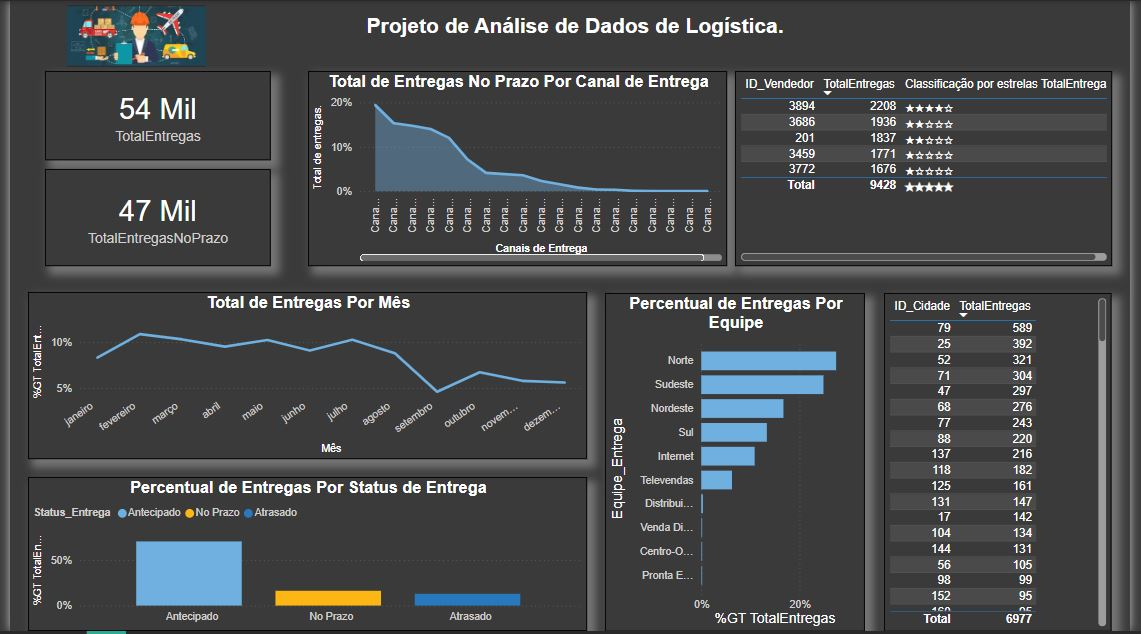

This screenshot's page, from the dashboard's own definition file:
{"tool":"powerbi","page":{"name":"Dashboard","canvas":[1280,720],"ordinal":0},"visuals":[{"type":"areaChart","title":"Total de Entregas No Prazo Por Canal de Entrega","fields":{"Category":["Logistica.Canal_Entrega"],"Y":["Medidas.TotalEntregas"]},"box":[340.3,79.9,479.2,223.4],"z":0},{"type":"barChart","title":"Percentual de Entregas Por Equipe","fields":{"Category":["Logistica.Equipe_Entrega"],"Y":["Medidas.TotalEntregas"]},"box":[679.5,333.4,297.5,386.6],"z":1000},{"type":"lineChart","title":"Total de Entregas Por Mês","fields":{"Category":["Logistica.Data_Entrega_Realizada.Variation.Hierarquia de datas.Mês"],"Y":["Medidas.TotalEntregas"]},"box":[20.6,332.9,638.7,191.5],"z":2000},{"type":"tableEx","title":"Total de Entregas com Atraso Por Cidade","fields":{"Values":["Logistica.ID_Cidade","Medidas.TotalEntregas"]},"box":[999,333.4,260.5,386.6],"z":3000},{"type":"columnChart","title":"Percentual de Entregas Por Status de Entrega","fields":{"Category":["Logistica.Status_Entrega"],"Series":["Logistica.Status_Entrega"],"Y":["Medidas.TotalEntregas"]},"box":[20.8,544.1,639,175.9],"z":4000},{"type":"tableEx","title":"Total de Entregas de Produtos dos Top 5 Vendedores","fields":{"Values":["Logistica.ID_Vendedor","Medidas.TotalEntregas","Medidas.Classificação por estrelas TotalEntregas"]},"box":[828.8,79.9,430.6,223.4],"z":5000},{"type":"textbox","box":[233.1,9.1,825.1,57.1],"z":6000},{"type":"card","fields":{"Values":["Medidas.TotalEntregas"]},"box":[40.5,79.9,258.1,101.9],"z":7000},{"type":"card","fields":{"Values":["Medidas.TotalEntregasNoPrazo"]},"box":[40.5,192.2,258.1,111.1],"z":8000},{"type":"image","box":[40.5,0,209.5,79.9],"z":9000}]}

Visuals, with their boxes in screenshot pixels (x1, y1, x2, y2), scaled from the page's 1280x720 canvas onto the 1141x634 screenshot:
"Total de Entregas No Prazo Por Canal de Entrega" areaChart: left=303, top=70, right=731, bottom=267
"Percentual de Entregas Por Equipe" barChart: left=606, top=294, right=871, bottom=633
"Total de Entregas Por Mês" lineChart: left=18, top=293, right=588, bottom=462
"Total de Entregas com Atraso Por Cidade" tableEx: left=891, top=294, right=1123, bottom=633
"Percentual de Entregas Por Status de Entrega" columnChart: left=19, top=479, right=588, bottom=633
"Total de Entregas de Produtos dos Top 5 Vendedores" tableEx: left=739, top=70, right=1123, bottom=267
textbox: left=208, top=8, right=943, bottom=58
card - Medidas.TotalEntregas: left=36, top=70, right=266, bottom=160
card - Medidas.TotalEntregasNoPrazo: left=36, top=169, right=266, bottom=267
image: left=36, top=0, right=223, bottom=70
